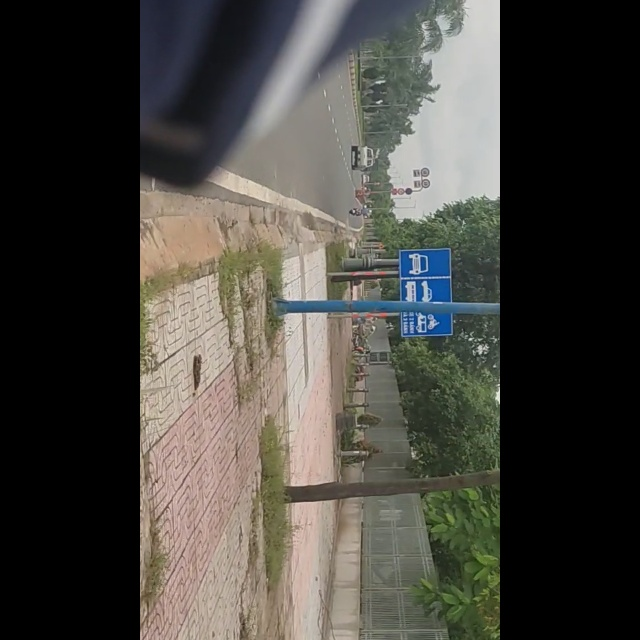bien_chi_dan: (459, 247, 563, 337)
